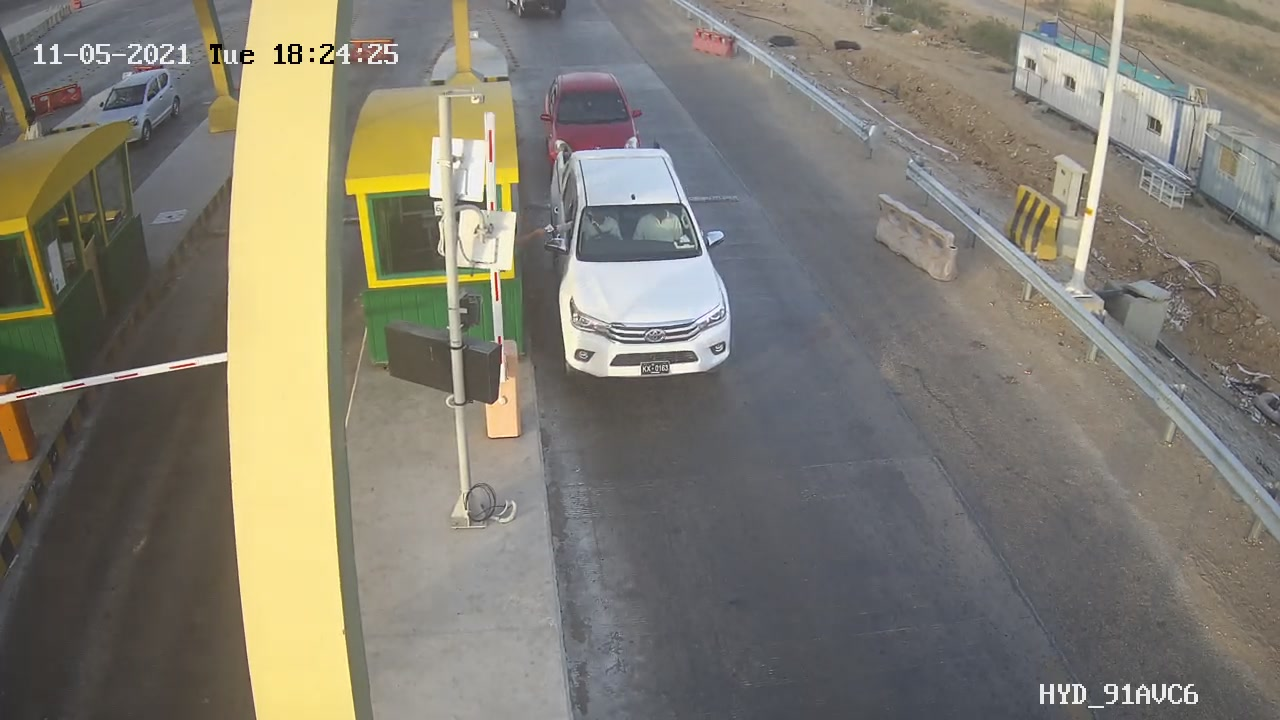F1: (549, 142, 738, 389)
